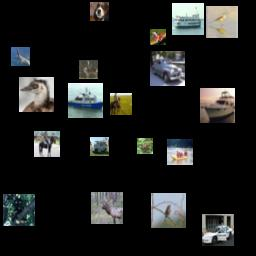airplane: (11, 47, 30, 66), (150, 29, 166, 45)
automobile: (150, 51, 185, 86), (202, 214, 234, 246)
bird: (19, 77, 54, 112), (151, 193, 186, 228), (206, 6, 238, 38)
cat: (3, 194, 35, 226)
deer: (91, 192, 123, 224), (79, 60, 98, 79)
dog: (90, 2, 109, 21)
frog: (137, 138, 153, 154)
ship: (200, 88, 235, 123), (68, 83, 103, 118), (172, 3, 204, 35), (167, 139, 193, 165)
truck: (90, 137, 109, 156)
